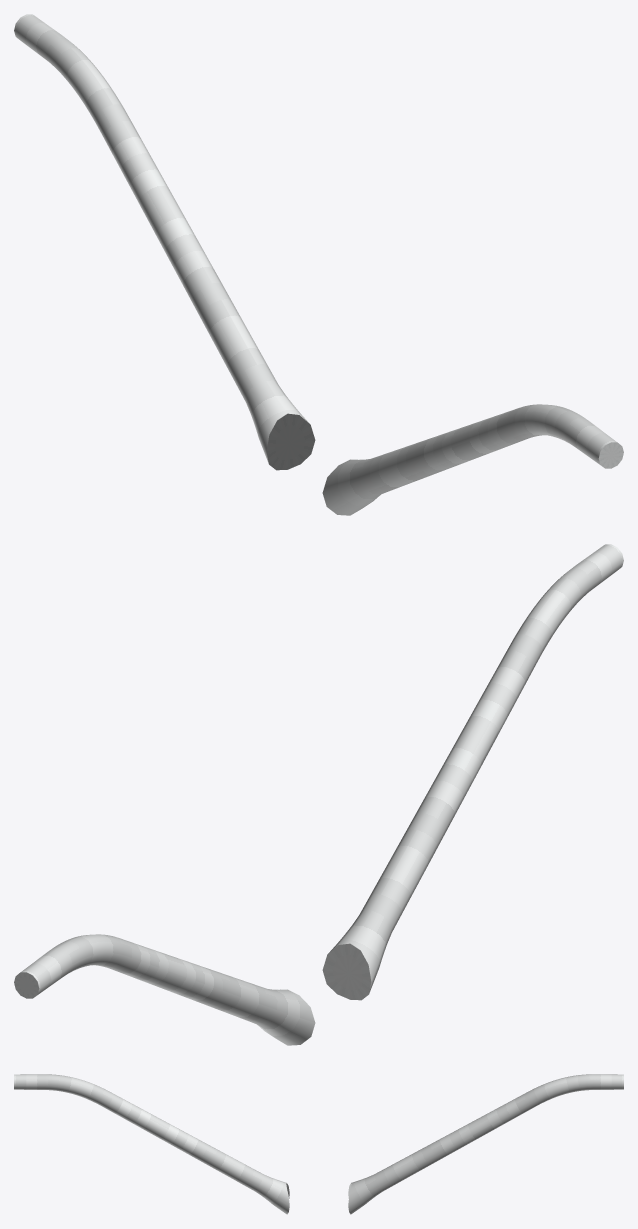
The model's file is luminairearm_caltrans8ftstraightdouble_inv.obj.
3 views of the same model, one above another, from view 1: azimuth 30°, elevation 25°; view 2: azimuth 150°, elevation 25°; view 3: azimuth 270°, elevation 25° (orthographic). The views are drawn at different scales.
Parts seen in each view (by area): view 1: luminairearm_caltrans8ftstraightdouble_inv; view 2: luminairearm_caltrans8ftstraightdouble_inv; view 3: luminairearm_caltrans8ftstraightdouble_inv.
Part boxes in pixels (left/top/right/bottom): luminairearm_caltrans8ftstraightdouble_inv: left=14, top=14, right=623, bottom=515; luminairearm_caltrans8ftstraightdouble_inv: left=14, top=544, right=623, bottom=1045; luminairearm_caltrans8ftstraightdouble_inv: left=14, top=1074, right=623, bottom=1214.
Bounding box in the file's own units: 0.0482 × 0.25 × 1.
